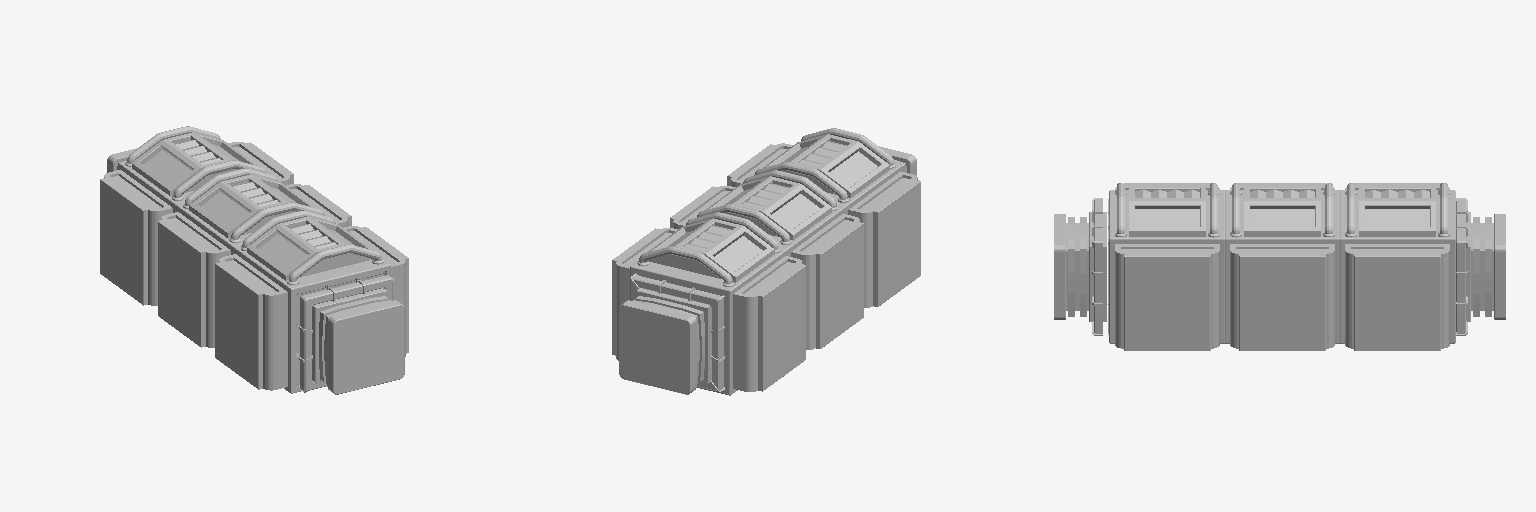
File: frame_long_1.obj
The picture shows the model from 3 angles: view 1: azimuth 30°, elevation 25°; view 2: azimuth 150°, elevation 25°; view 3: azimuth 270°, elevation 25°; orthographic projection.
Visible parts, largest first — view 1: Cube.002; view 2: Cube.002; view 3: Cube.002.
Boxes of the visible parts, box(x1,y1,x2,y2) form: Cube.002: box(100, 126, 408, 394); Cube.002: box(612, 128, 920, 395); Cube.002: box(1054, 183, 1505, 350).
Bounding box in the file's own units: 1.5 × 1.26 × 3.89.